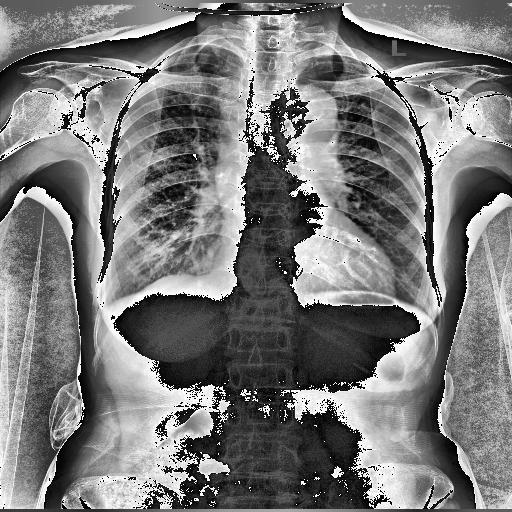0- Aortic enlargement: (275, 86, 337, 160), (276, 86, 337, 150), (282, 85, 338, 140)
11- Pleural thickening: (91, 288, 122, 322)
12- Pneumothorax: (91, 288, 122, 322)
13- Pulmonary fibrosis: (118, 132, 133, 174)
3- Cardiomegaly: (210, 244, 394, 308), (210, 237, 398, 298)
9- Other lesion: (118, 132, 133, 174)
